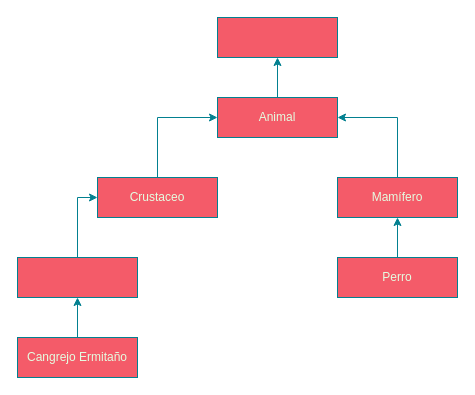
The diagram is 475 pixels wide and 395 high, and some of its shapes have lost their labels. Here are the shapes that lost their labels. From the top down, the centre of each, then its label:
(x=277, y=37): Objeto
(x=77, y=277): Cangrejo
